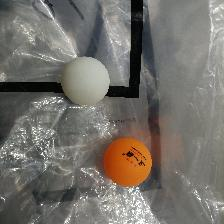WhiteBall: (59, 56, 109, 106)
YellowBall: (102, 137, 152, 186)
